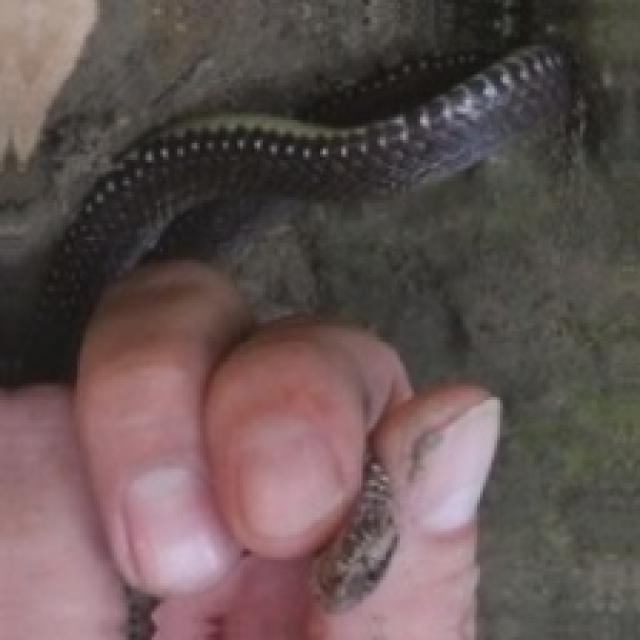reinhardts lined snake: (29, 46, 571, 374), (315, 454, 398, 611)
